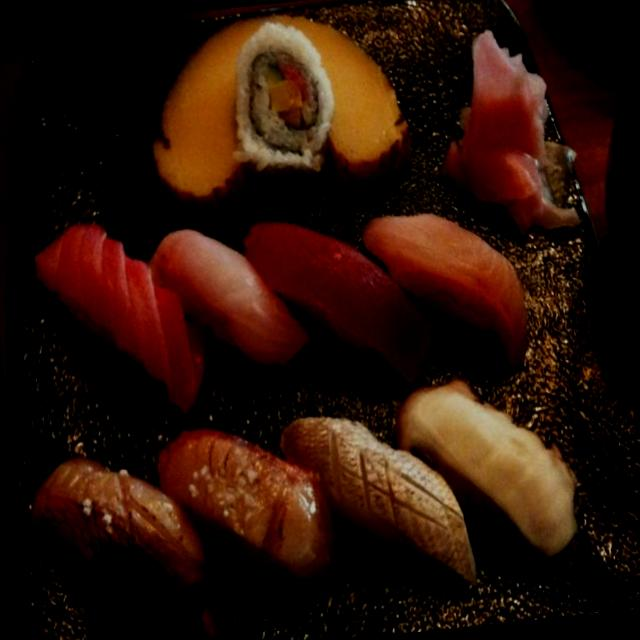Sushi: (1, 161, 596, 624)
